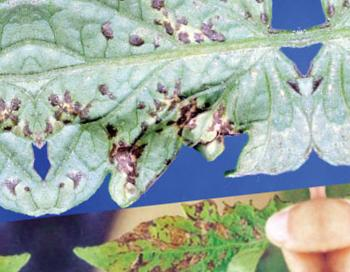Tomato leaf bacterial spot: (24, 0, 317, 215), (65, 189, 315, 272)
